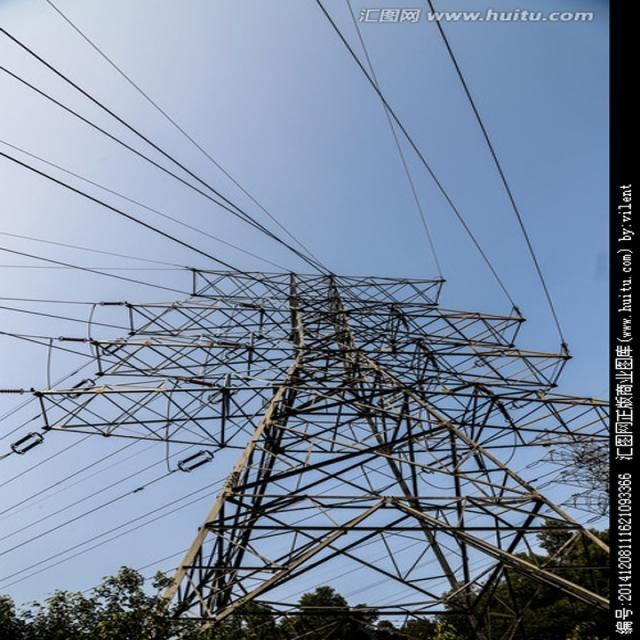non-critical vegetation: (29, 242, 602, 618)
